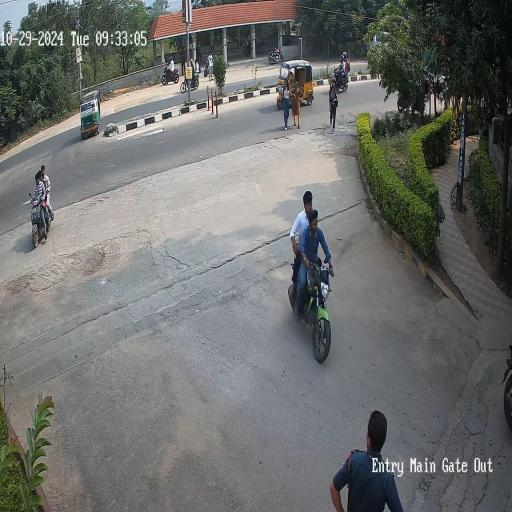no helmet: (296, 204, 335, 240), (29, 166, 49, 189)
triple riding: (26, 158, 56, 248)
